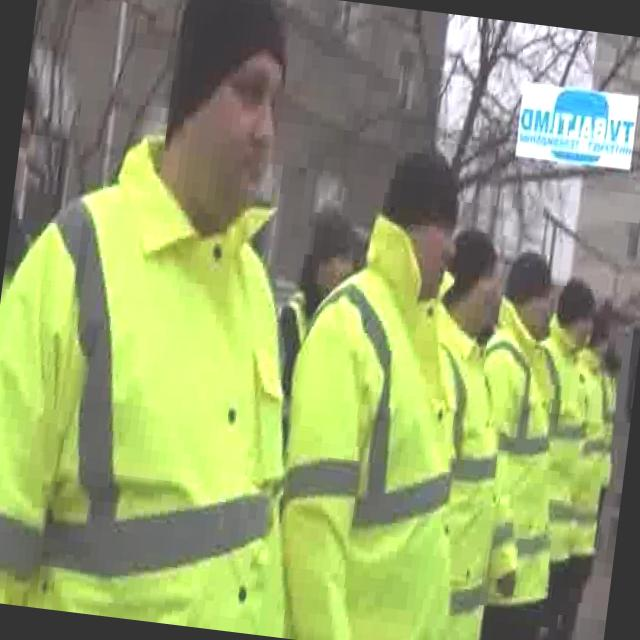vest: (0, 113, 343, 638), (257, 199, 500, 640), (394, 291, 525, 640), (450, 292, 588, 617), (511, 306, 604, 566), (548, 346, 624, 564)
